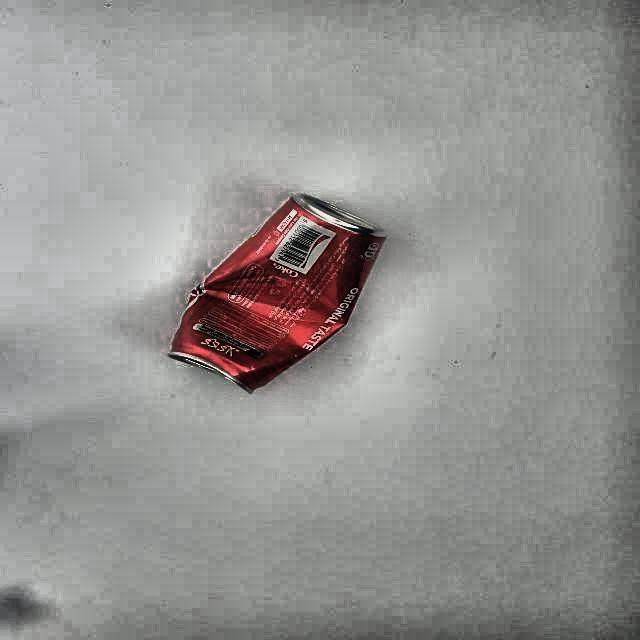metal: (170, 195, 387, 396)
